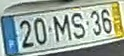0: (32, 15, 48, 46)
2: (18, 19, 35, 49)
3: (89, 9, 102, 37)
6: (99, 8, 113, 35)
M: (51, 13, 72, 43)
S: (70, 11, 87, 41)
